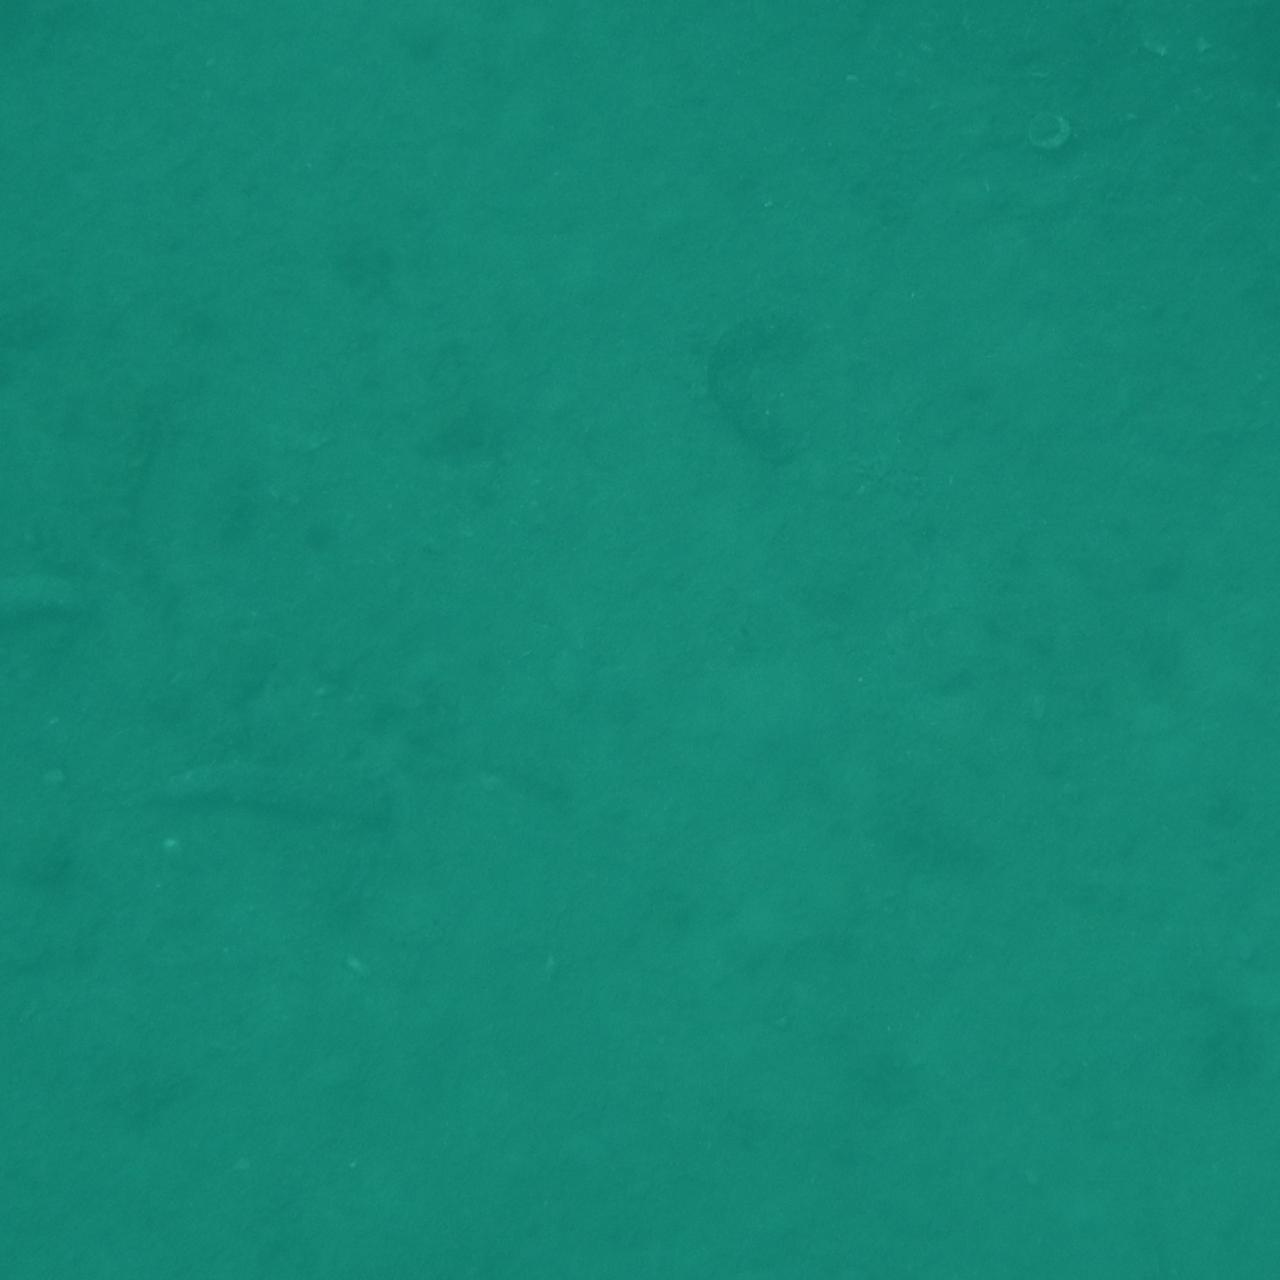Holothuria tubulosa: (661, 306, 869, 532), (128, 758, 438, 858), (0, 0, 151, 195), (1152, 184, 1280, 408), (1094, 0, 1280, 129), (0, 896, 102, 1130), (0, 901, 111, 1105), (789, 0, 959, 120), (0, 1167, 175, 1280), (1143, 662, 1280, 803), (0, 535, 120, 685), (0, 960, 102, 1129), (1117, 0, 1280, 86), (1155, 0, 1280, 105), (0, 0, 125, 89), (1191, 0, 1280, 125), (1200, 1141, 1280, 1280), (0, 1165, 95, 1280), (0, 1177, 75, 1280), (1194, 1233, 1280, 1280), (1219, 0, 1280, 62)
